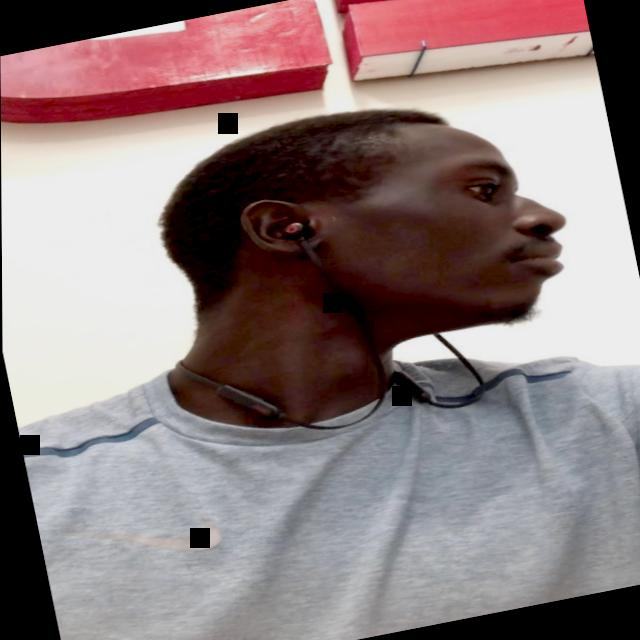NO-Mask: (260, 91, 587, 366)
